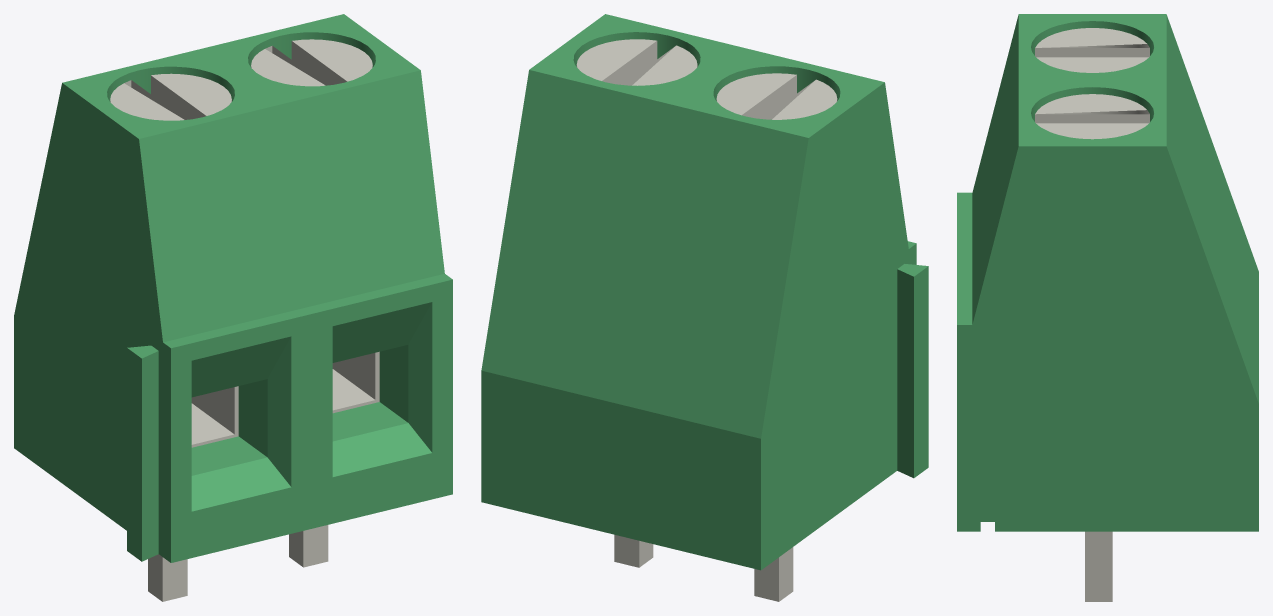
File: terminalblock_phoenix_mkds_1_5_2_5_08_1x02_p5_08mm_horizontal.glb
3 views of the same model, side by side, from view 1: azimuth 30°, elevation 25°; view 2: azimuth 150°, elevation 25°; view 3: azimuth 270°, elevation 25° (orthographic). The views are drawn at different scales.
Visible parts, largest first — view 1: conn_terminal_2p, pin_1, pin_2; view 2: conn_terminal_2p, pin_1, pin_2; view 3: conn_terminal_2p, pin_2.
Part boxes in pixels (box(x1,y1,x2,y2)): conn_terminal_2p: box(14, 14, 452, 562); pin_1: box(148, 554, 187, 601); pin_2: box(289, 525, 328, 567); conn_terminal_2p: box(481, 14, 928, 570); pin_1: box(754, 547, 793, 601); pin_2: box(614, 534, 653, 567); conn_terminal_2p: box(957, 14, 1258, 531); pin_2: box(1085, 531, 1112, 601).
Bounding box in the file's own units: 0.0109 × 0.0173 × 0.0098.
